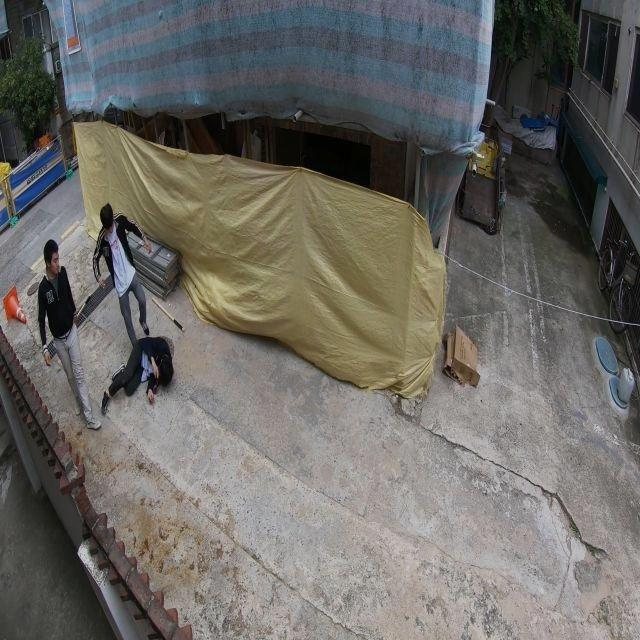fight: (32, 198, 180, 432)
